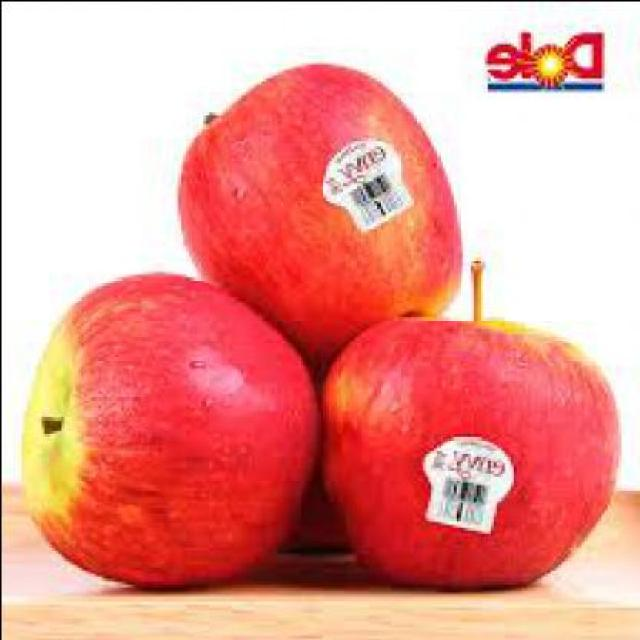BIODEGRADABLE: (25, 268, 327, 586), (180, 57, 466, 372), (325, 313, 617, 595), (287, 474, 356, 564)
